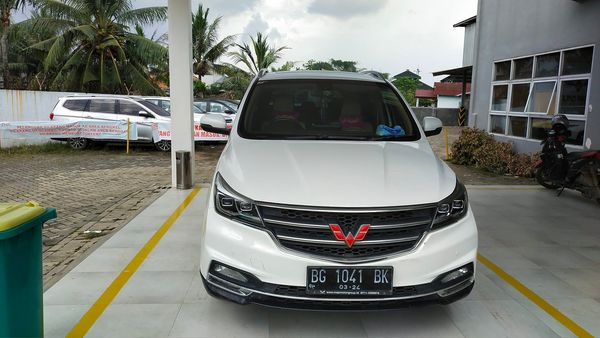plate: (304, 264, 397, 297)
